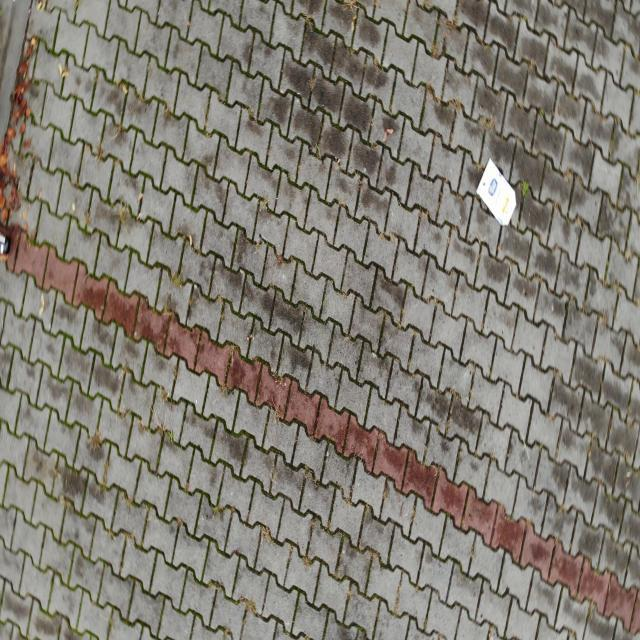rubbish: (476, 158, 518, 227), (0, 233, 12, 255)
